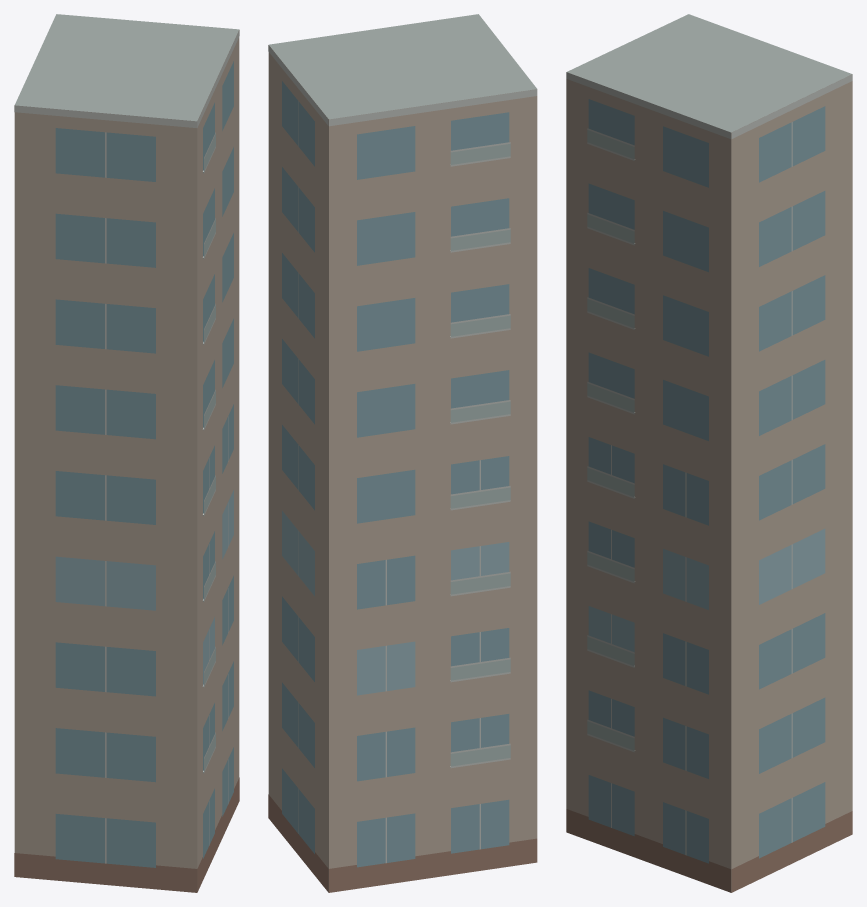
The model's file is survey-upis-32845985.glb.
3 renders of one model, left to right at view 1: azimuth 30°, elevation 25°; view 2: azimuth 150°, elevation 25°; view 3: azimuth 270°, elevation 25°, orthographic.
Parts seen in each view (by area): view 1: survey-upis-32845985.tmp; view 2: survey-upis-32845985.tmp; view 3: survey-upis-32845985.tmp.
Boxes of the visible parts, x1,y1,x2,y2 form: survey-upis-32845985.tmp: (14,14,239,892); survey-upis-32845985.tmp: (268,14,537,892); survey-upis-32845985.tmp: (566,14,852,892).
Bounding box in the file's own units: 9.19 × 27.45 × 9.37.
